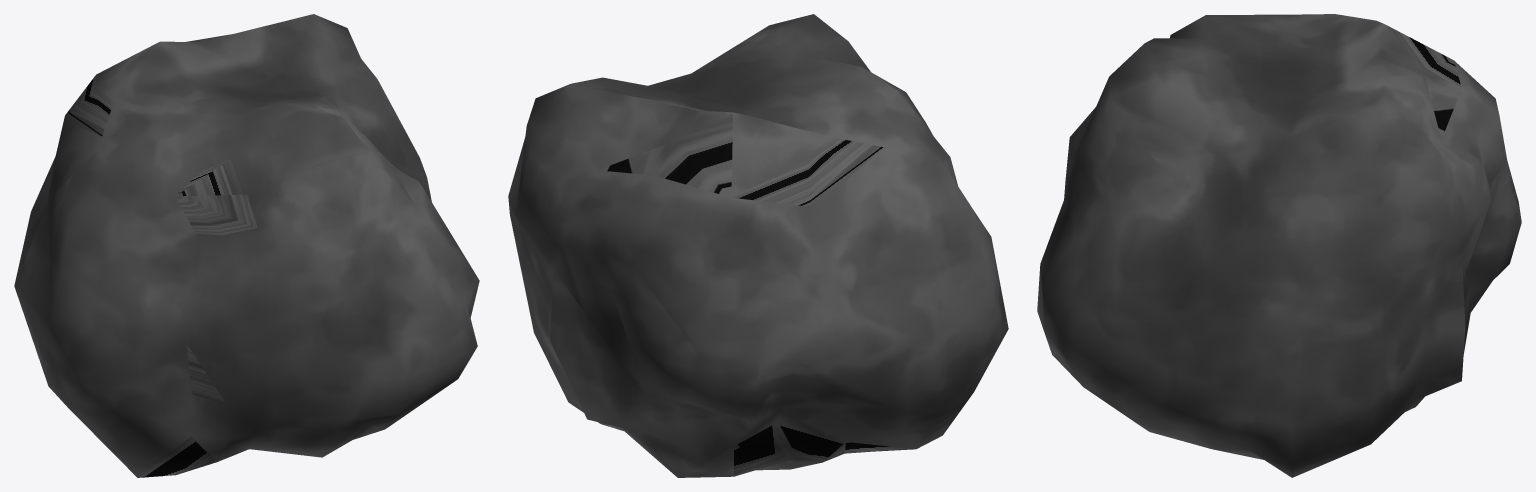
The model's file is boulder3.glb.
3 renders of one model, left to right at view 1: azimuth 30°, elevation 25°; view 2: azimuth 150°, elevation 25°; view 3: azimuth 270°, elevation 25°, orthographic. The views are drawn at different scales.
Visible parts, largest first — view 1: boulder3; view 2: boulder3; view 3: boulder3.
Boxes of the visible parts, x1,y1,x2,y2 form: boulder3: (14,14,479,477); boulder3: (508,14,1008,477); boulder3: (1037,14,1521,477).
Size of the model in its own units: 3.3 by 2.8 by 3.26.
1 material, 1 textured.
